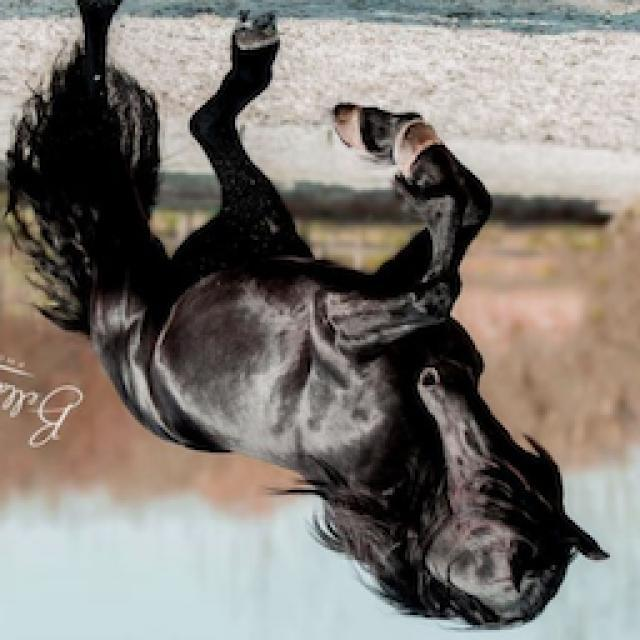Horse: (2, 2, 616, 638)
